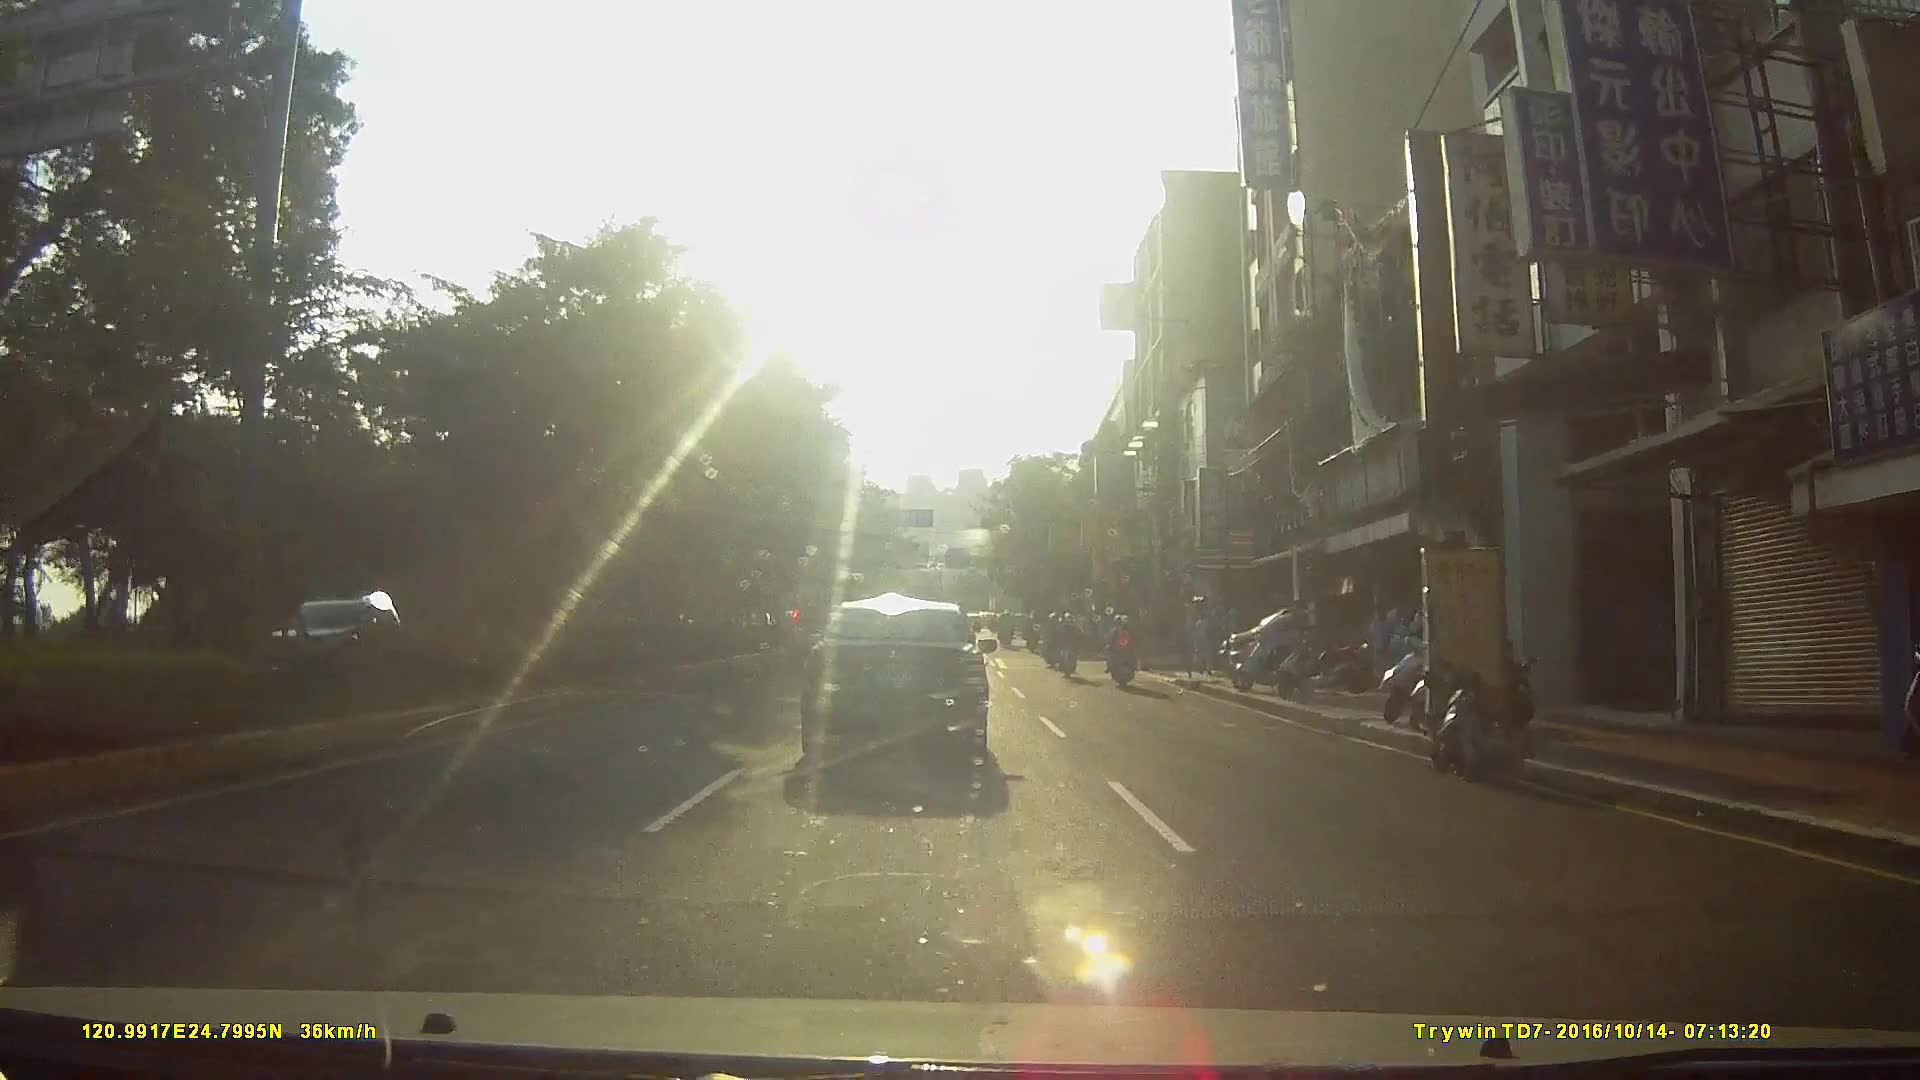rider: (1105, 612, 1138, 690), (1055, 612, 1081, 680), (1042, 612, 1065, 671)
vehicle: (798, 597, 1014, 787)
